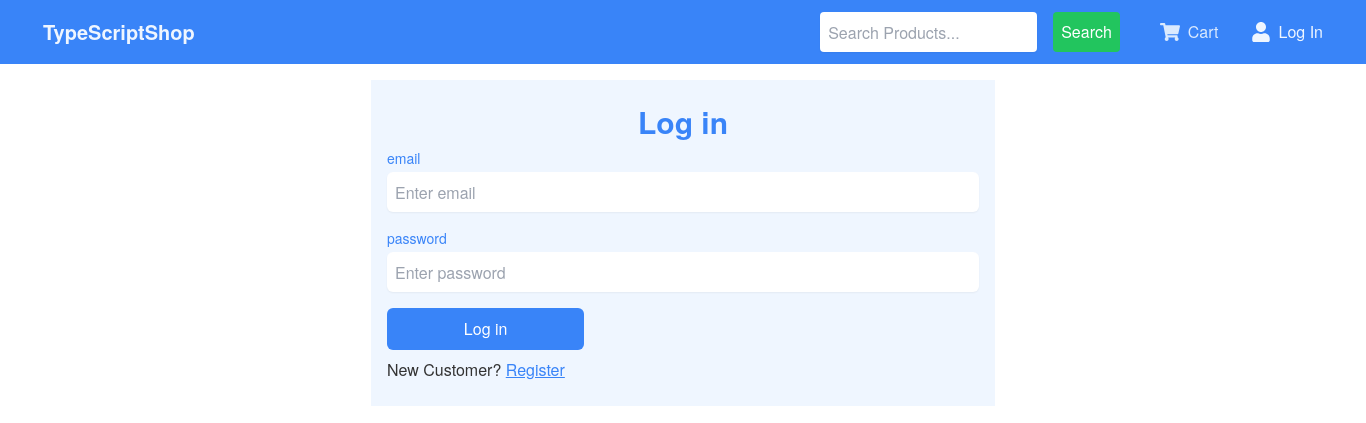
Test: Admin Product Management › Login process › renders login and admin can login
The image size is (1366, 423).
Type "admin@email.com" into the field labelled "email" at (683, 192), box [387,172,979,212]
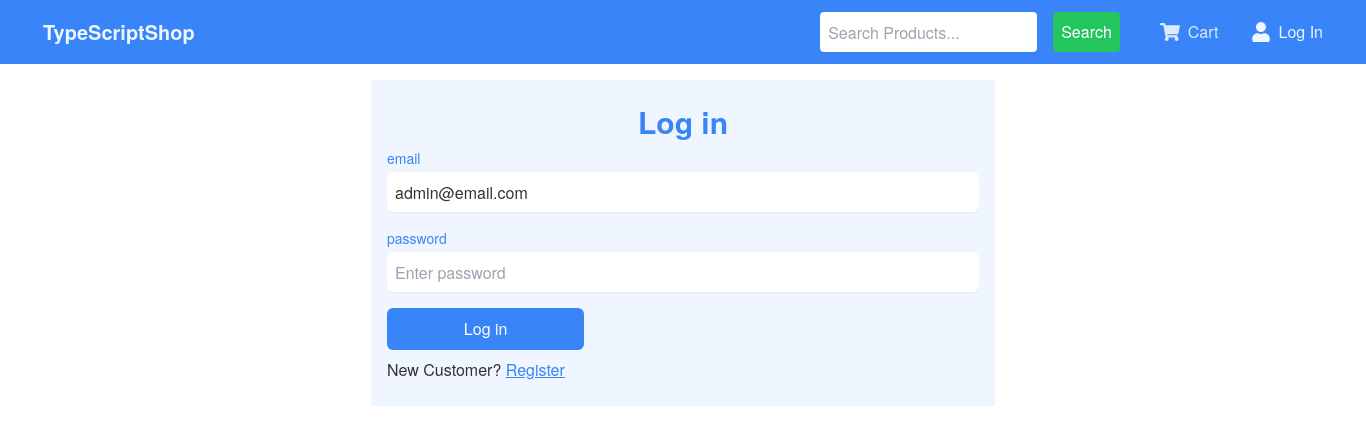
Type "123456" into the password field labelled "password" at (683, 272), box [387,252,979,292]
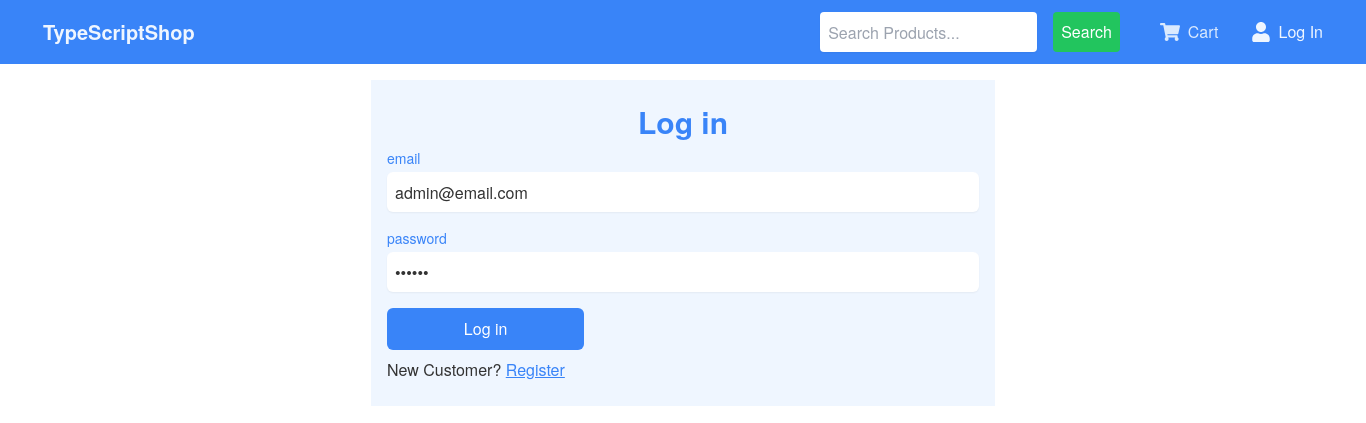
Click the button with test id "login" at (486, 329), box [387,308,584,350]
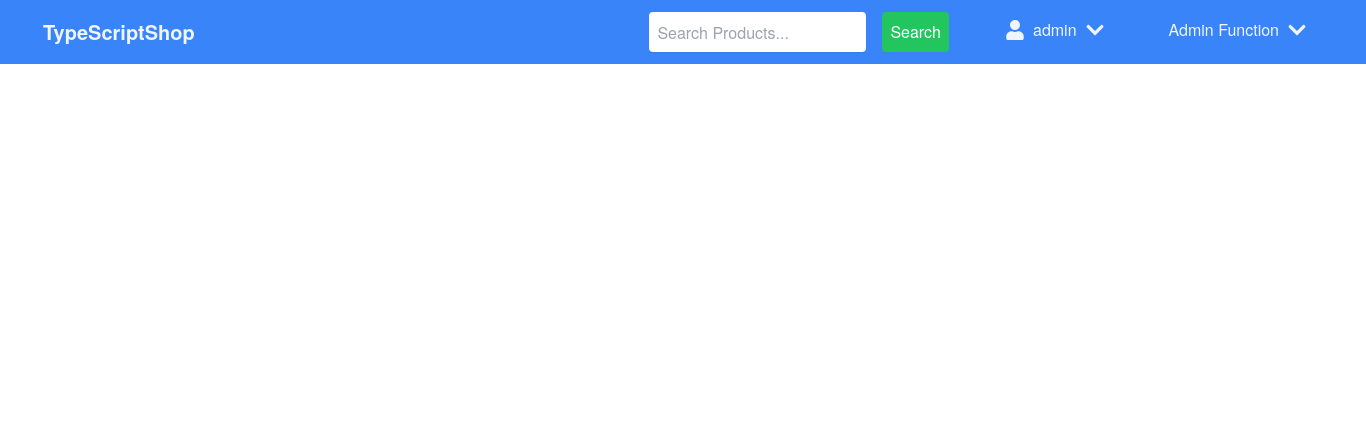
Now the text "admin" is shown, box [1033,22,1077,38]
